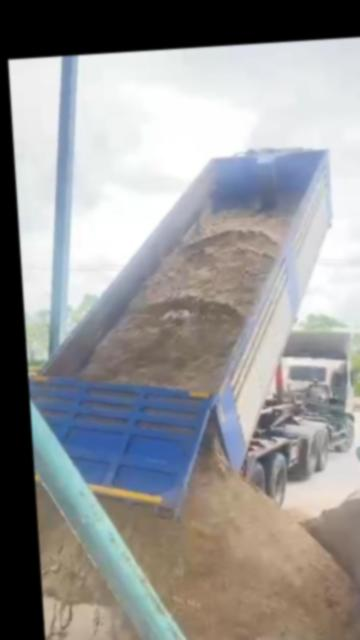sand: (104, 443, 358, 640), (80, 211, 287, 390), (38, 488, 160, 640), (305, 485, 360, 590)
